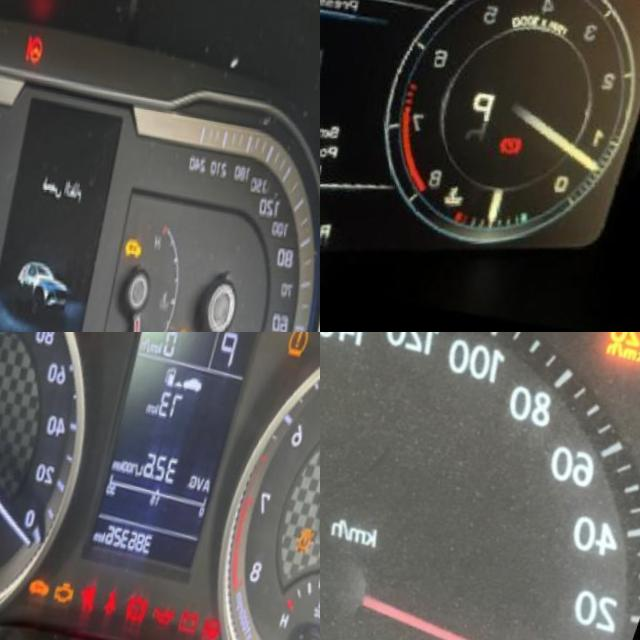Engine cooling system: (446, 169, 483, 207)
security: (32, 570, 64, 601), (129, 225, 154, 256)
